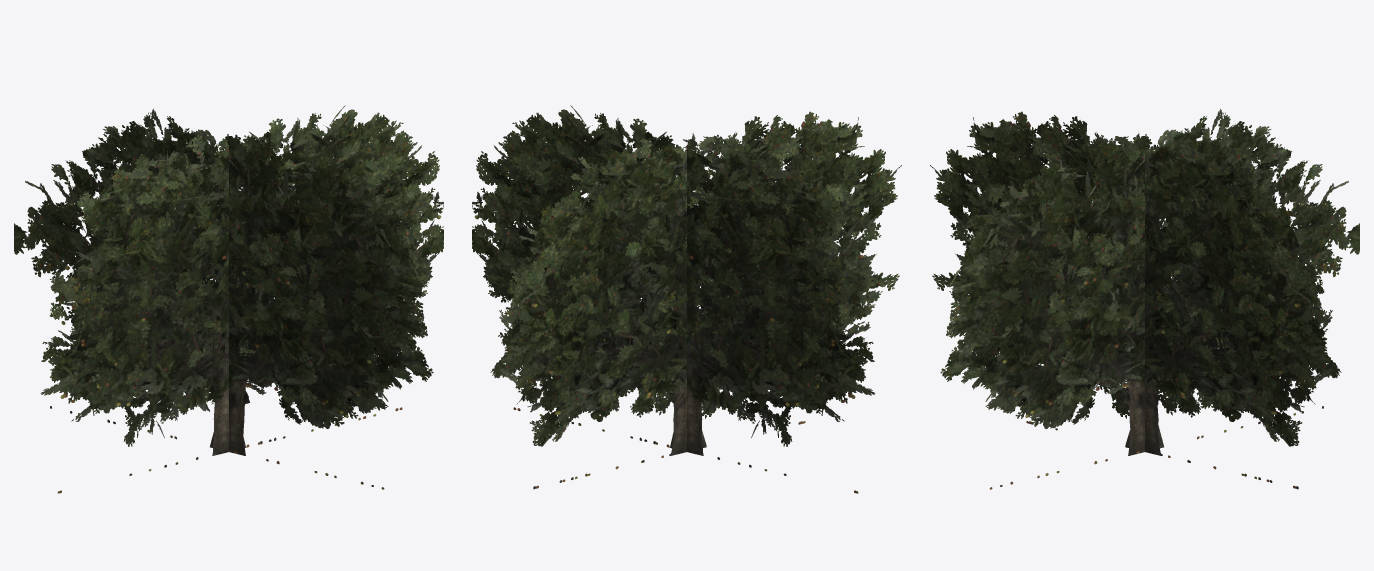
Rendered from jablon_1_daleko.glb.
3 views of the same model, side by side, from view 1: azimuth 30°, elevation 25°; view 2: azimuth 150°, elevation 25°; view 3: azimuth 270°, elevation 25° (orthographic).
Visible parts, largest first — view 1: jablon_1_daleko; view 2: jablon_1_daleko; view 3: jablon_1_daleko.
Boxes of the visible parts, x1=… form: jablon_1_daleko: x1=14, y1=105, x2=443, y2=493; jablon_1_daleko: x1=472, y1=105, x2=901, y2=493; jablon_1_daleko: x1=930, y1=109, x2=1359, y2=489.
Bounding box in the file's own units: 8.8 × 6.52 × 7.63.
3 materials, 3 textured.
